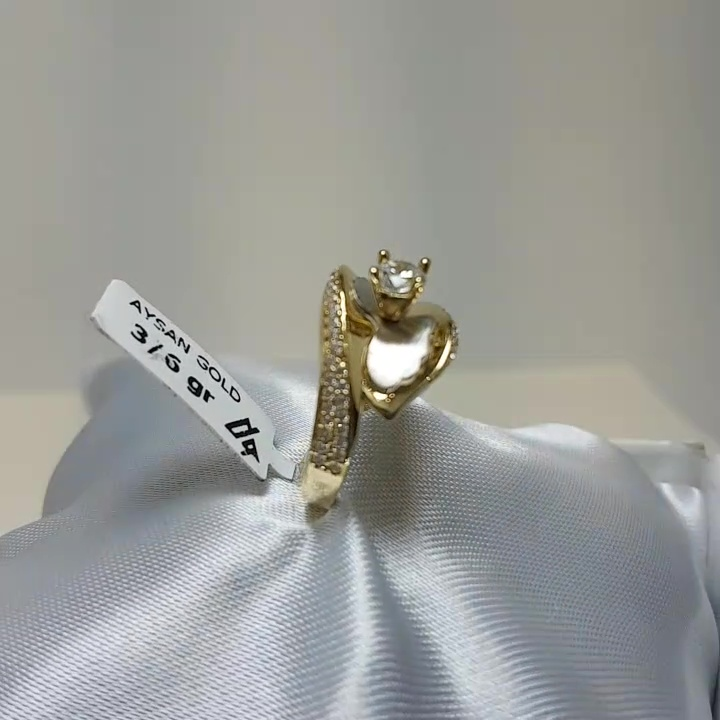Ring 6: (271, 227, 469, 523)
